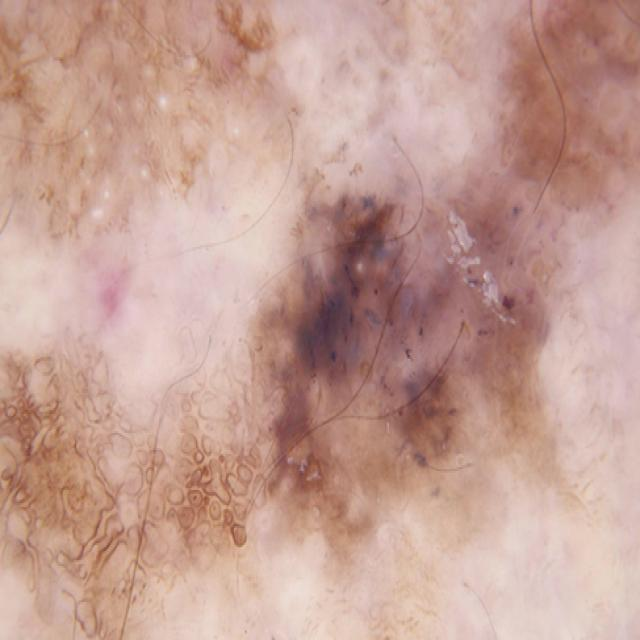Keratosis: (258, 201, 498, 547), (0, 326, 203, 640), (21, 3, 224, 195), (500, 0, 640, 192)
